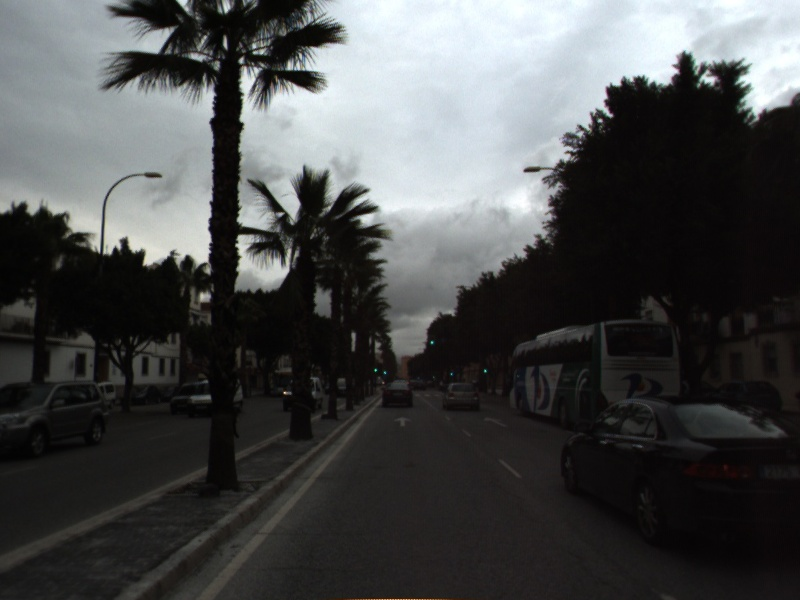STRAIGHT: (481, 414, 509, 429), (392, 414, 414, 428)
